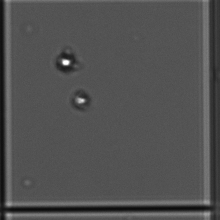Living Cell: (52, 47, 82, 75), (70, 90, 96, 114)
